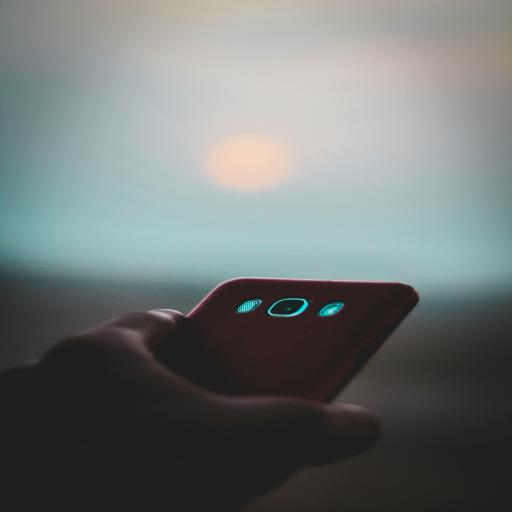phone: (200, 277, 442, 411)
